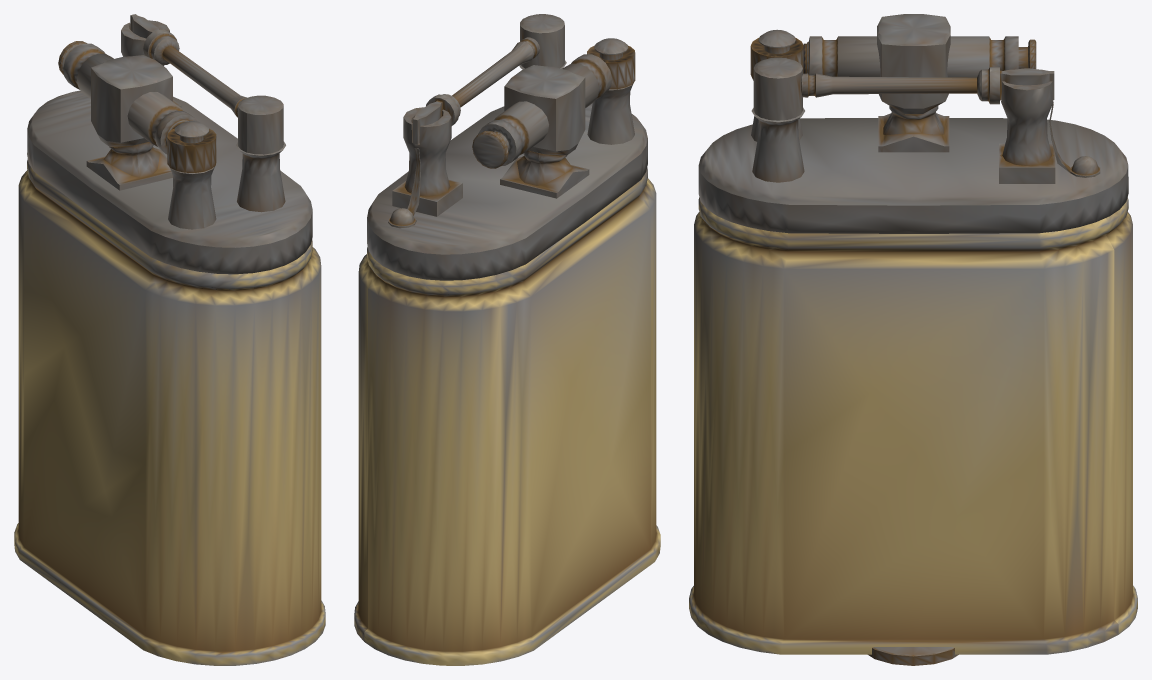
Rendered from lighter.glb.
3 renders of one model, left to right at view 1: azimuth 30°, elevation 25°; view 2: azimuth 150°, elevation 25°; view 3: azimuth 270°, elevation 25°, orthographic. The views are drawn at different scales.
Visible parts, largest first — view 1: lighter; view 2: lighter; view 3: lighter.
Boxes of the visible parts, box(x1,y1,x2,y2) form: lighter: box(14, 14, 325, 665); lighter: box(354, 14, 660, 665); lighter: box(689, 14, 1137, 665).
Bounding box in the file's own units: 0.0285 × 0.075 × 0.0535.
